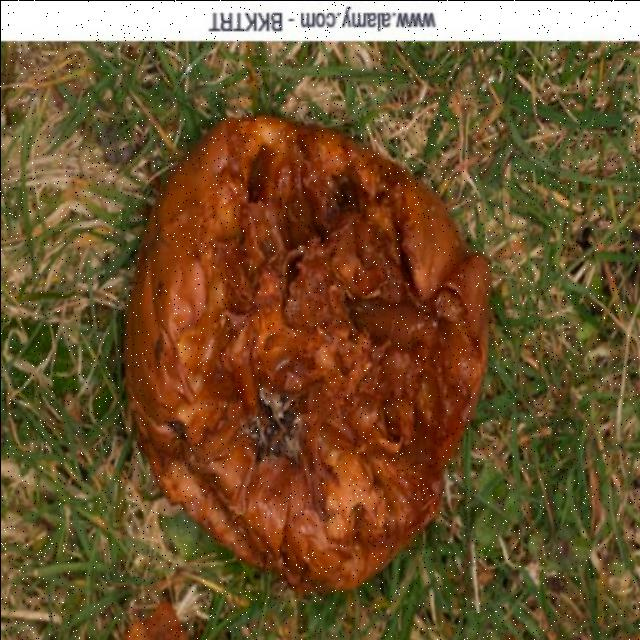ROT: (119, 122, 488, 594)
